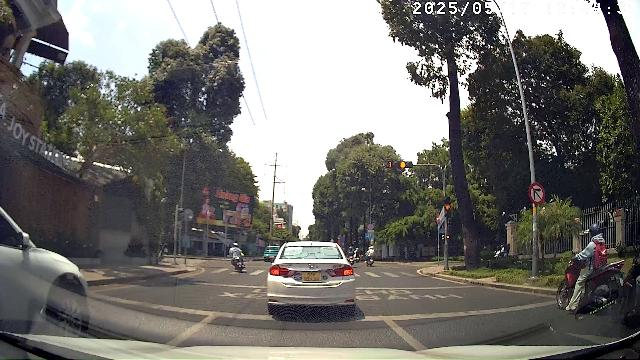123b-cam-re-phai: (528, 183, 546, 205)
